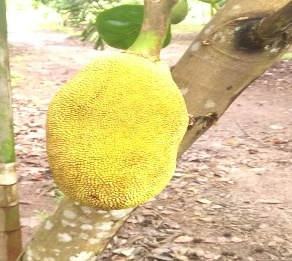Mit: (47, 54, 189, 211)
